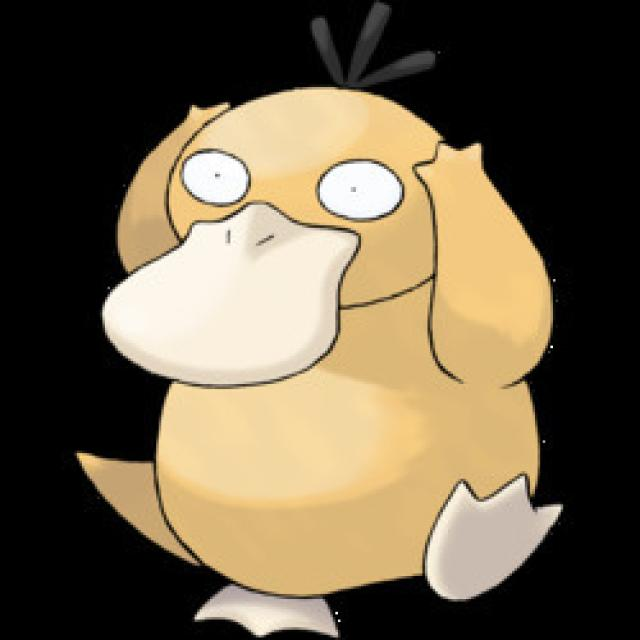Psyduck: (116, 77, 548, 628)
